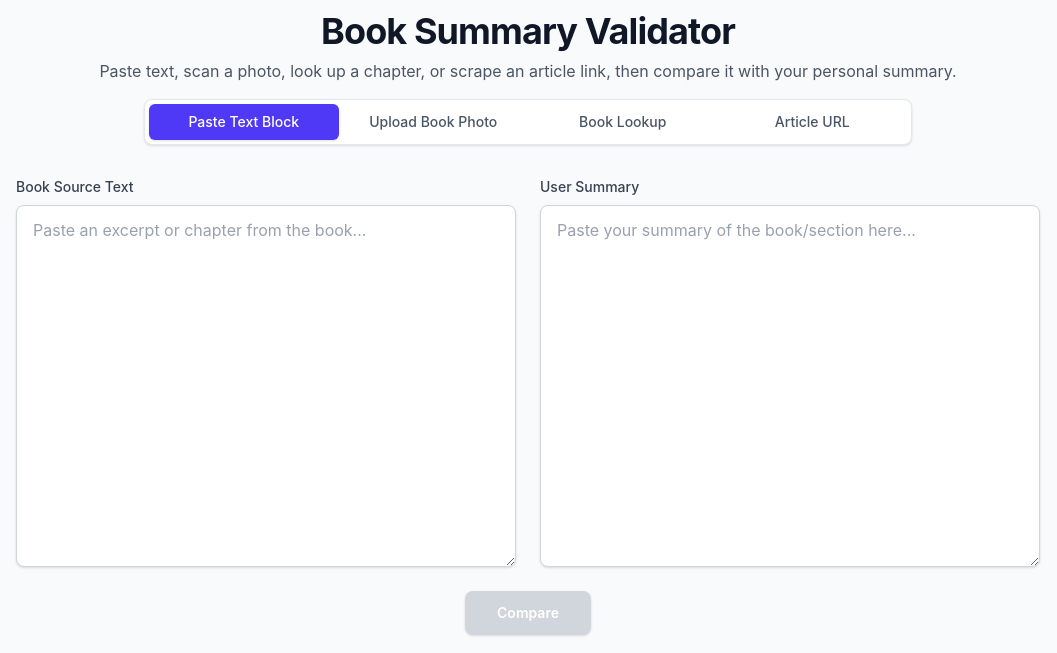
Scenario: App › switches to article url mode and shows url form
The width and height of the screenshot is (1057, 653).
Click the tab "Article URL" at [812, 122], box [718,104,907,140]
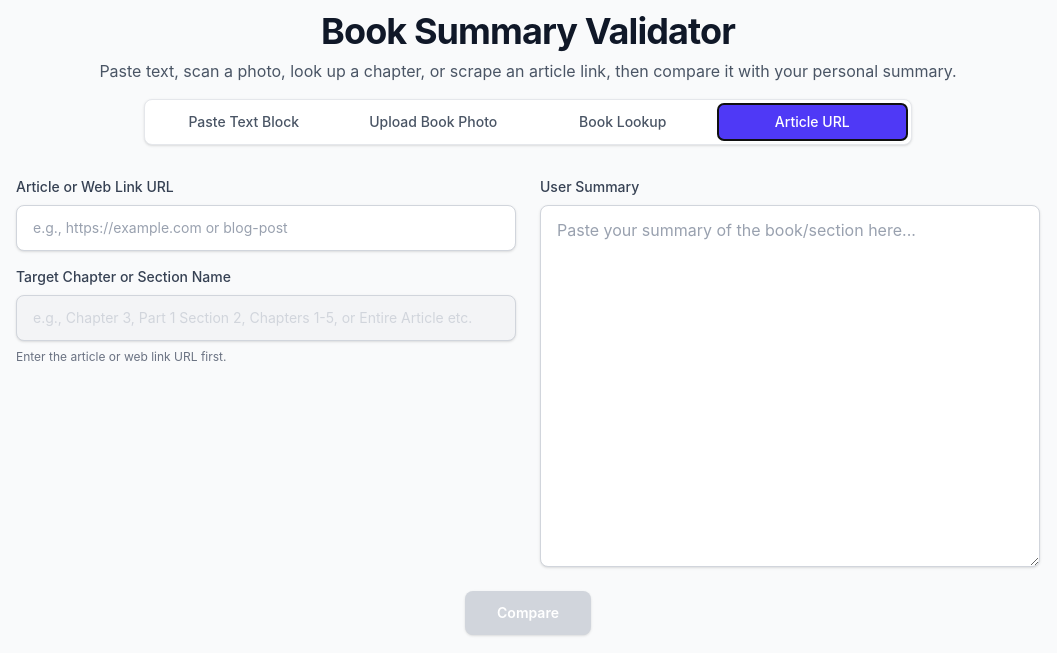
Check: the field labelled "Article or Web Link URL" is shown, box [16,205,516,251]
Check: the field labelled "Target Chapter or Section Name" is disabled, box [16,295,516,341]
Check: the text labelled "Book Source Text" is gone
